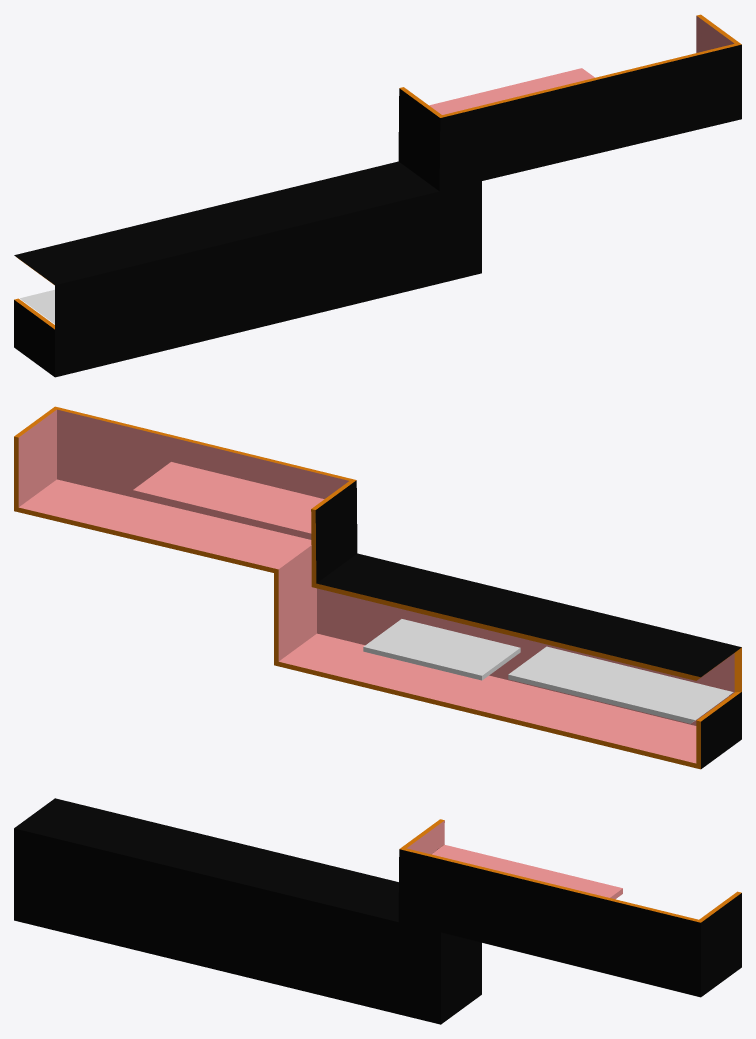
Rendered from salle6.fbx.
The picture shows the model from 3 angles, top to bottom: view 1: azimuth 30°, elevation 25°; view 2: azimuth 150°, elevation 25°; view 3: azimuth 330°, elevation 25°; orthographic projection.
Parts seen in each view (by area): view 1: Cylinder.002, plateform2; view 2: Cylinder.002, plateform2, plateform1; view 3: Cylinder.002.
Boxes of the visible parts, box(x1,y1,x2,y2) form: Cylinder.002: box(14, 14, 741, 377); plateform2: box(20, 289, 54, 323); Cylinder.002: box(14, 406, 741, 769); plateform2: box(508, 646, 733, 723); plateform1: box(363, 619, 520, 680); Cylinder.002: box(14, 798, 741, 1024).
Bounding box in the file's own units: 15651 × 3600 × 1620.
